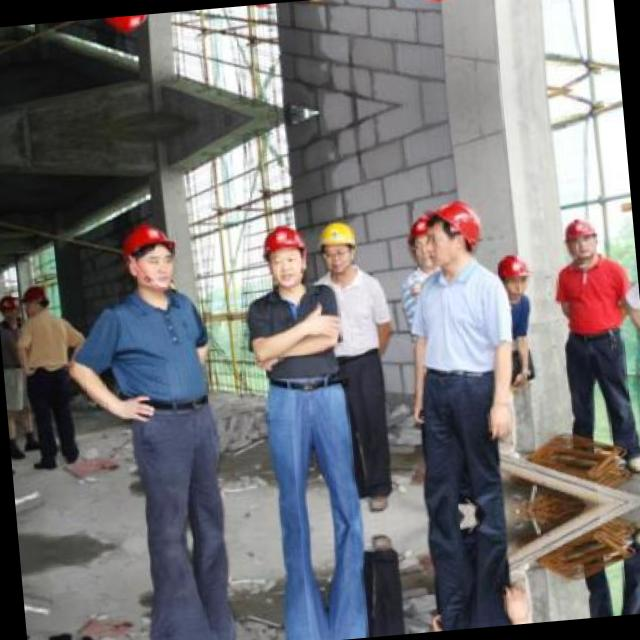helmet: (118, 218, 184, 297), (410, 196, 480, 270), (256, 222, 310, 288), (404, 208, 452, 267), (314, 218, 359, 274), (560, 212, 600, 262), (496, 250, 532, 300), (100, 13, 162, 38), (20, 280, 52, 326), (0, 288, 20, 319), (392, 0, 459, 7)
